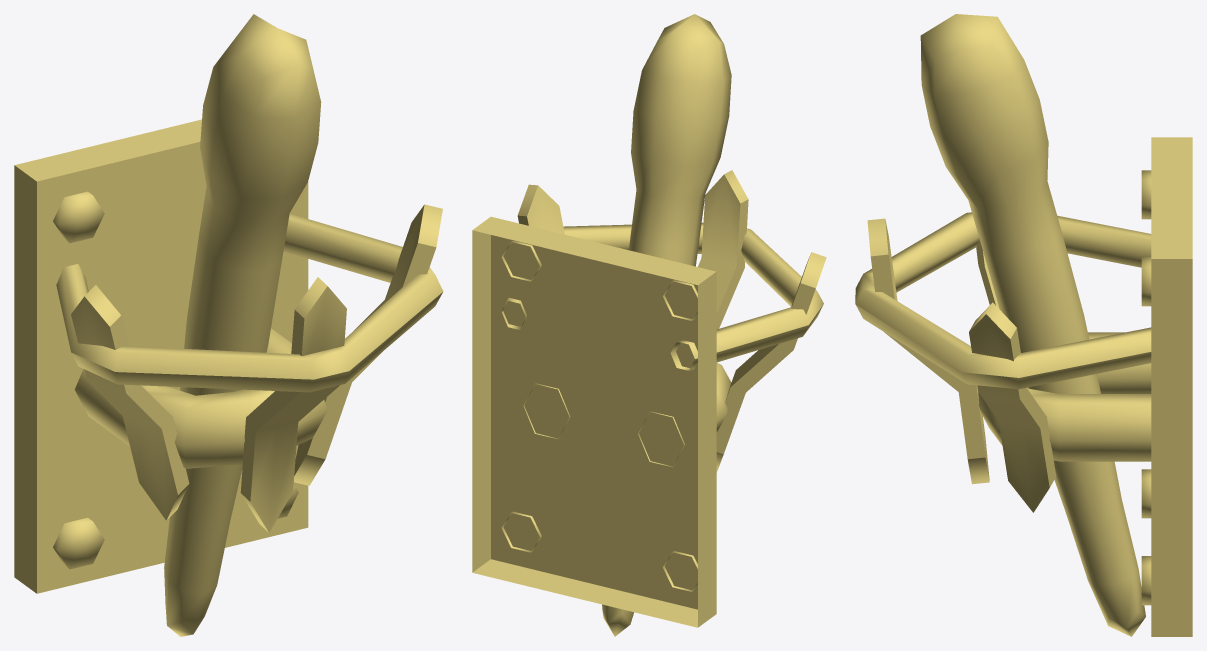
The model's file is SM_Torch_01.fbx.
3 renders of one model, left to right at view 1: azimuth 30°, elevation 25°; view 2: azimuth 150°, elevation 25°; view 3: azimuth 270°, elevation 25°, orthographic. The views are drawn at different scales.
Visible parts, largest first — view 1: SM_Torch_01; view 2: SM_Torch_01; view 3: SM_Torch_01.
Boxes of the visible parts, left/top/right/bottom form: SM_Torch_01: left=14, top=14, right=443, bottom=636; SM_Torch_01: left=472, top=14, right=826, bottom=636; SM_Torch_01: left=855, top=14, right=1192, bottom=636.
Size of the model in its own units: 0.3833 by 0.693 by 0.3398.
